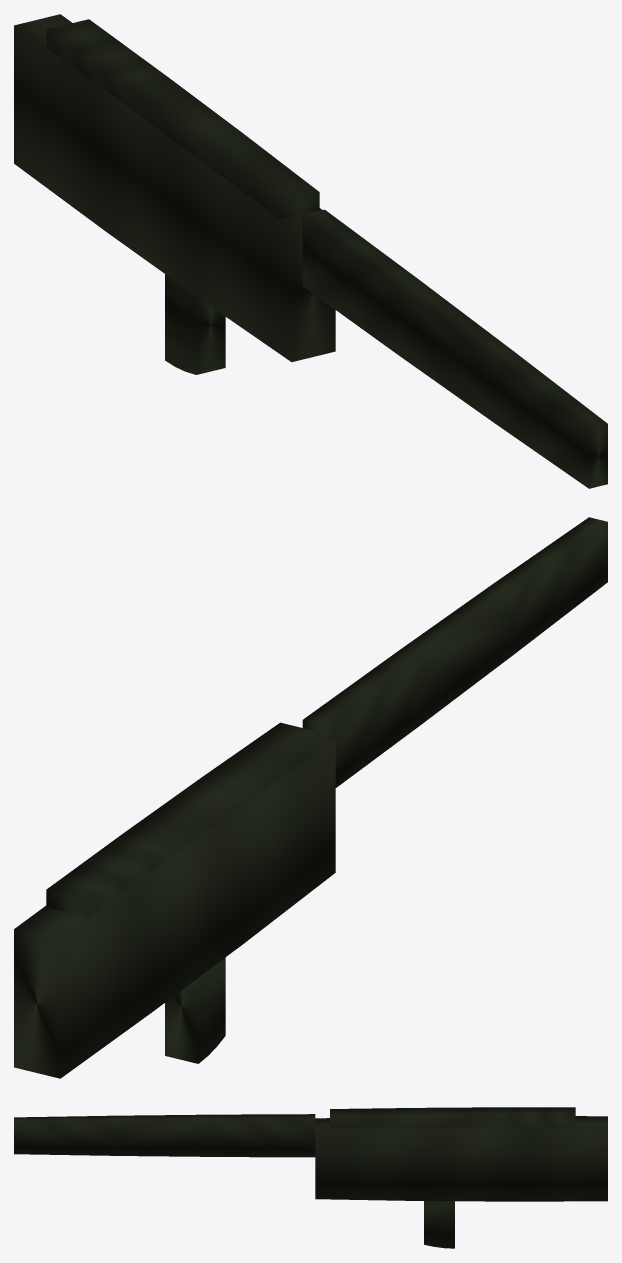
Rendered from wpn_awm_l115a3.glb.
3 views of the same model, one above another, from view 1: azimuth 30°, elevation 25°; view 2: azimuth 150°, elevation 25°; view 3: azimuth 270°, elevation 25° (orthographic). The views are drawn at different scales.
Parts seen in each view (by area): view 1: SubMesh_0_Receiver, SubMesh_3_BarrelSight, SubMesh_1_Action, SubMesh_2_Magazine; view 2: SubMesh_0_Receiver, SubMesh_3_BarrelSight, SubMesh_1_Action, SubMesh_2_Magazine; view 3: SubMesh_0_Receiver, SubMesh_3_BarrelSight, SubMesh_1_Action, SubMesh_2_Magazine.
Boxes of the visible parts, x1,y1,x2,y2 form: SubMesh_0_Receiver: (14, 14, 335, 362); SubMesh_3_BarrelSight: (302, 209, 607, 488); SubMesh_1_Action: (46, 19, 319, 219); SubMesh_2_Magazine: (165, 274, 225, 374); SubMesh_0_Receiver: (14, 737, 335, 1078); SubMesh_3_BarrelSight: (302, 517, 607, 787); SubMesh_1_Action: (46, 722, 319, 917); SubMesh_2_Magazine: (165, 957, 225, 1063); SubMesh_0_Receiver: (315, 1116, 607, 1201); SubMesh_3_BarrelSight: (14, 1114, 315, 1157); SubMesh_1_Action: (330, 1107, 575, 1128); SubMesh_2_Magazine: (424, 1201, 454, 1248).
Size of the model in its own units: 0.0645 by 0.3274 by 1.34.
1 material, 1 textured.
